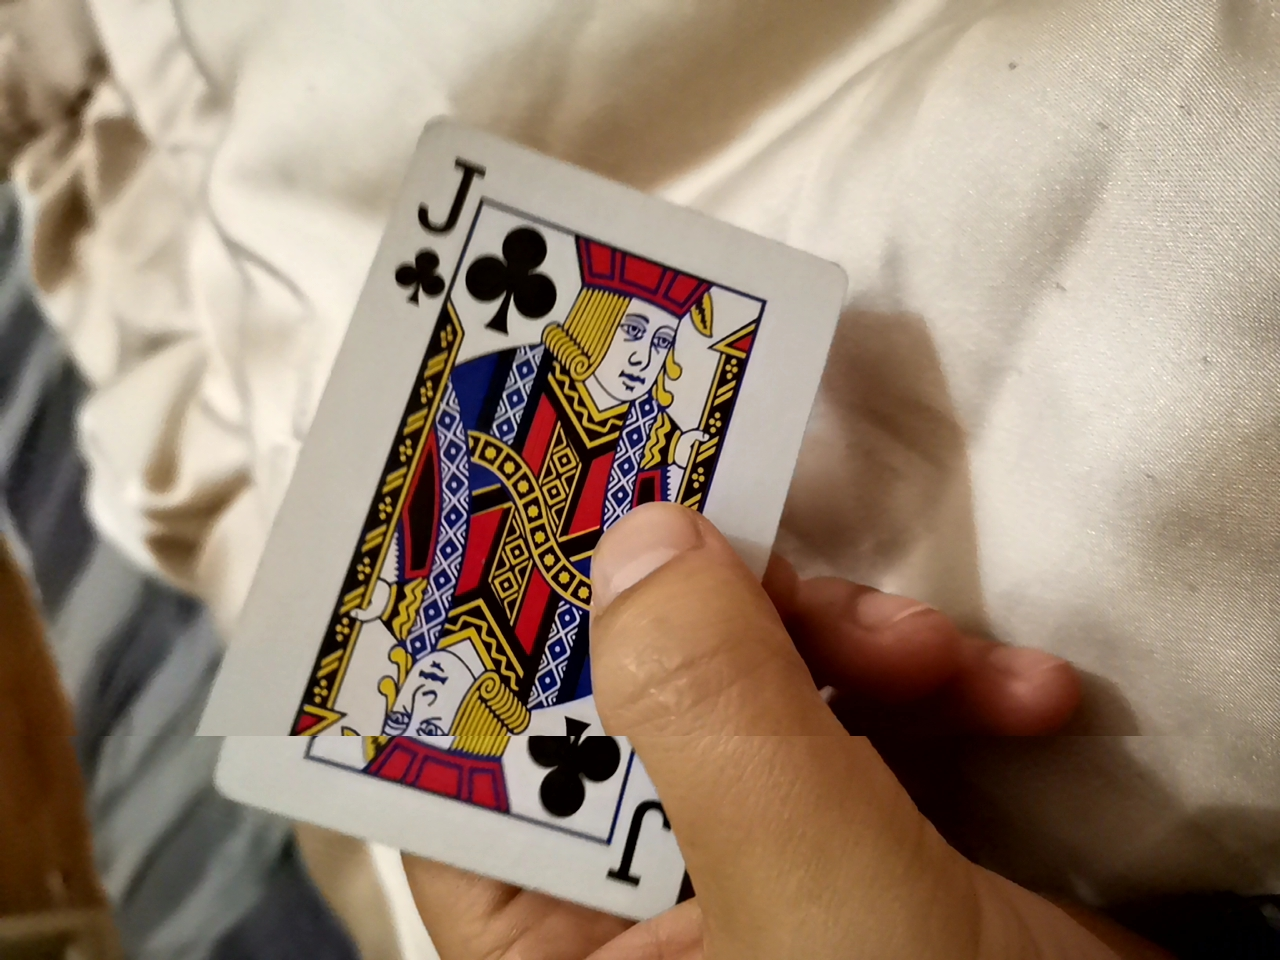mh j: (271, 141, 827, 930)
